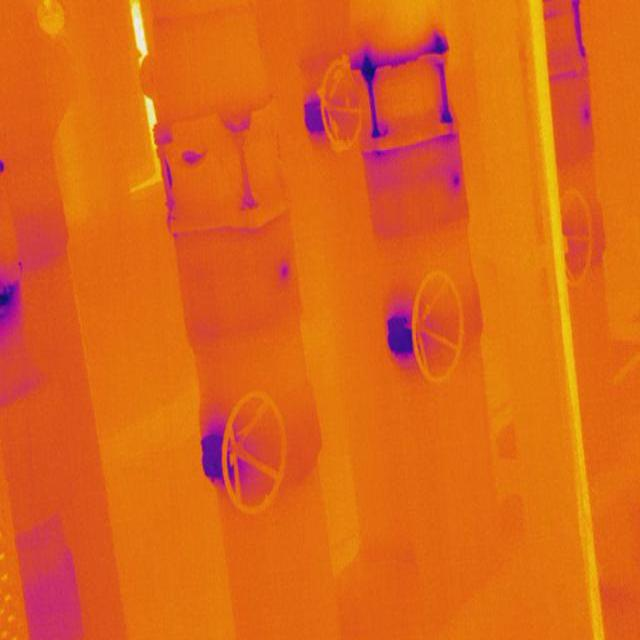leakage: (178, 144, 213, 170), (274, 250, 294, 284), (580, 99, 595, 128), (452, 168, 464, 194)
